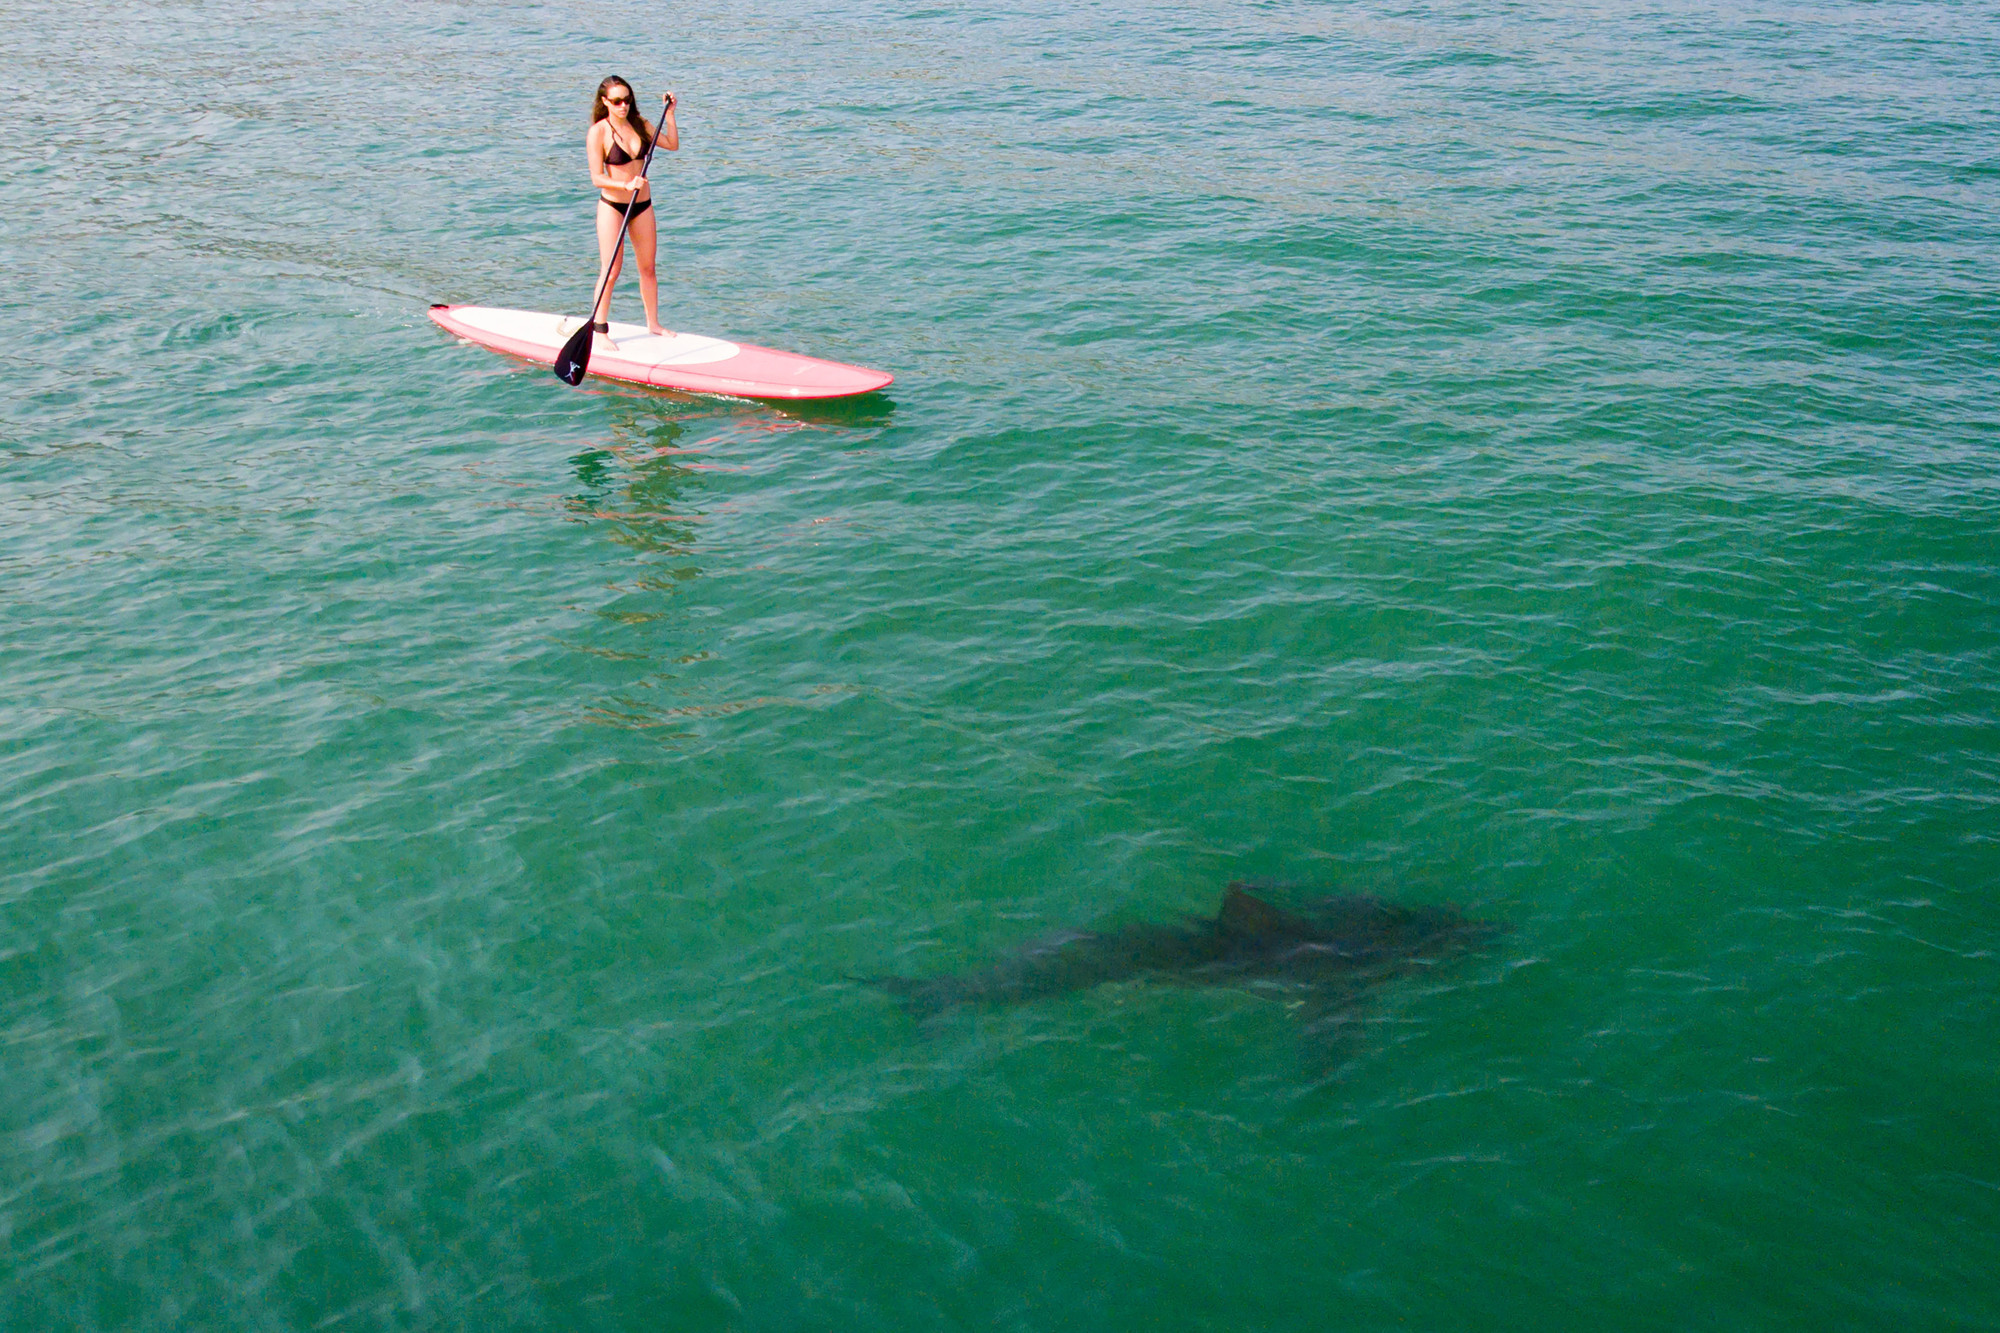shark: (821, 872, 1538, 1096)
surfer: (416, 62, 901, 440)
